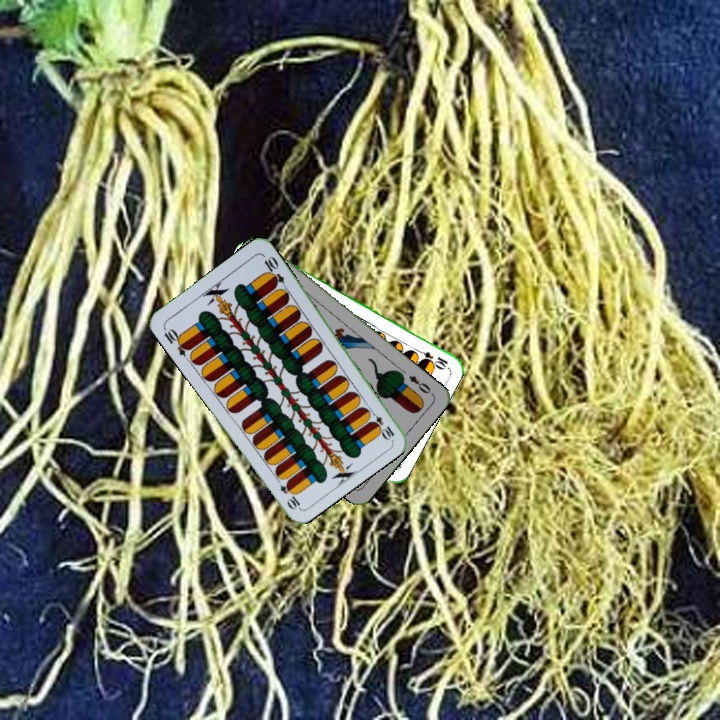E10: (159, 323, 193, 359), (365, 406, 397, 442), (411, 345, 451, 370)
EO: (405, 371, 436, 397)
